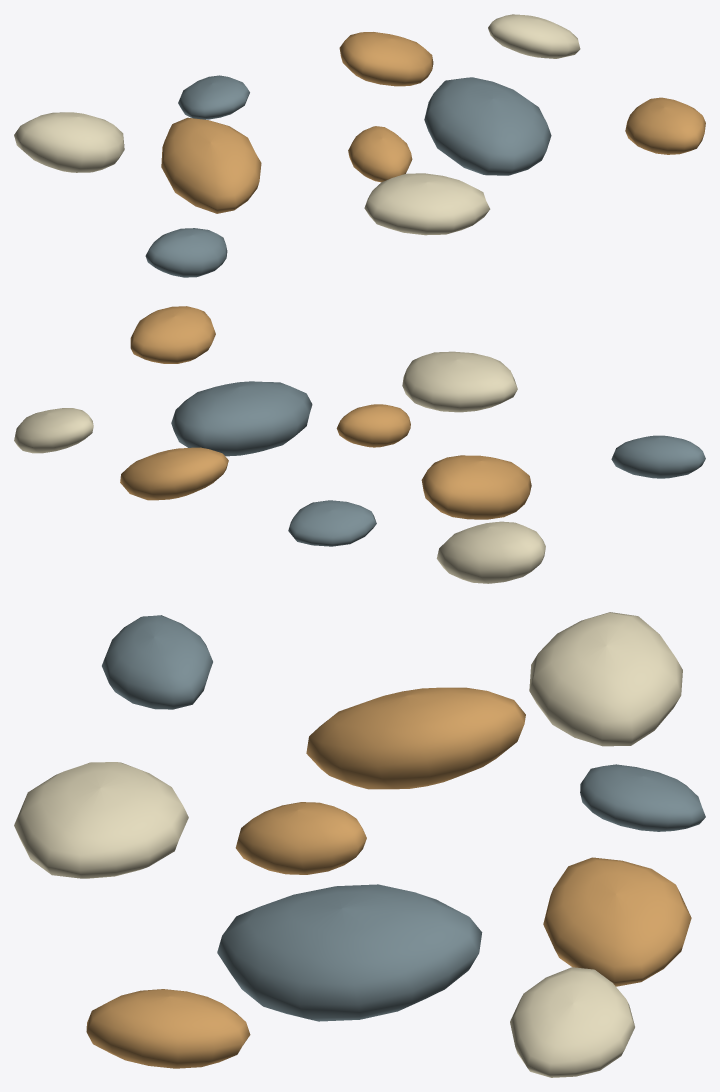
Rendered from MixedRiverPebbleCluster.fbx.
The picture shows the model from 3 angles, top to bottom: view 1: azimuth 30°, elevation 25°; view 2: azimuth 150°, elevation 25°; view 3: azimuth 270°, elevation 25°; orthographic projection. The views are drawn at different scales.
Parts seen in each view (by area): view 1: Pebble cluster stone 03, Pebble cluster stone 01, Pebble cluster stone 02, Pebble cluster stone 05, Pebble cluster stone 07, Pebble cluster stone 04, Pebble cluster stone 00, Pebble cluster stone 08, Pebble cluster stone 09, Pebble cluster stone 06; view 2: Pebble cluster stone 03, Pebble cluster stone 01, Pebble cluster stone 02, Pebble cluster stone 05, Pebble cluster stone 07, Pebble cluster stone 04, Pebble cluster stone 06, Pebble cluster stone 00, Pebble cluster stone 08, Pebble cluster stone 09; view 3: Pebble cluster stone 03, Pebble cluster stone 01, Pebble cluster stone 02, Pebble cluster stone 05, Pebble cluster stone 07, Pebble cluster stone 08, Pebble cluster stone 04, Pebble cluster stone 00, Pebble cluster stone 09, Pebble cluster stone 06.
Part boxes in pixels (box(x1,y1,x2,y2)): Pebble cluster stone 03: box(424, 77, 551, 175); Pebble cluster stone 01: box(161, 117, 261, 213); Pebble cluster stone 02: box(364, 173, 490, 235); Pebble cluster stone 05: box(14, 112, 124, 172); Pebble cluster stone 07: box(339, 32, 433, 86); Pebble cluster stone 04: box(625, 97, 705, 154); Pebble cluster stone 00: box(145, 228, 227, 277); Pebble cluster stone 08: box(488, 14, 580, 58); Pebble cluster stone 09: box(348, 126, 412, 182); Pebble cluster stone 06: box(178, 75, 249, 119); Pebble cluster stone 03: box(171, 381, 312, 456); Pebble cluster stone 01: box(421, 455, 531, 519); Pebble cluster stone 02: box(402, 351, 517, 412); Pebble cluster stone 05: box(436, 521, 545, 583); Pebble cluster stone 07: box(120, 447, 228, 500); Pebble cluster stone 04: box(130, 306, 215, 363); Pebble cluster stone 06: box(288, 500, 376, 546); Pebble cluster stone 00: box(611, 435, 705, 478); Pebble cluster stone 08: box(14, 408, 93, 453); Pebble cluster stone 09: box(336, 404, 410, 447); Pebble cluster stone 03: box(217, 884, 482, 1021); Pebble cluster stone 01: box(306, 687, 525, 789); Pebble cluster stone 02: box(14, 762, 188, 878); Pebble cluster stone 05: box(529, 612, 682, 746); Pebble cluster stone 07: box(543, 857, 691, 986); Pebble cluster stone 08: box(510, 967, 634, 1077); Pebble cluster stone 04: box(86, 989, 250, 1068); Pebble cluster stone 00: box(102, 615, 212, 709); Pebble cluster stone 09: box(235, 802, 366, 874); Pebble cluster stone 06: box(580, 764, 705, 831).
Size of the model in its own units: 0.9154 by 0.1089 by 0.617.
